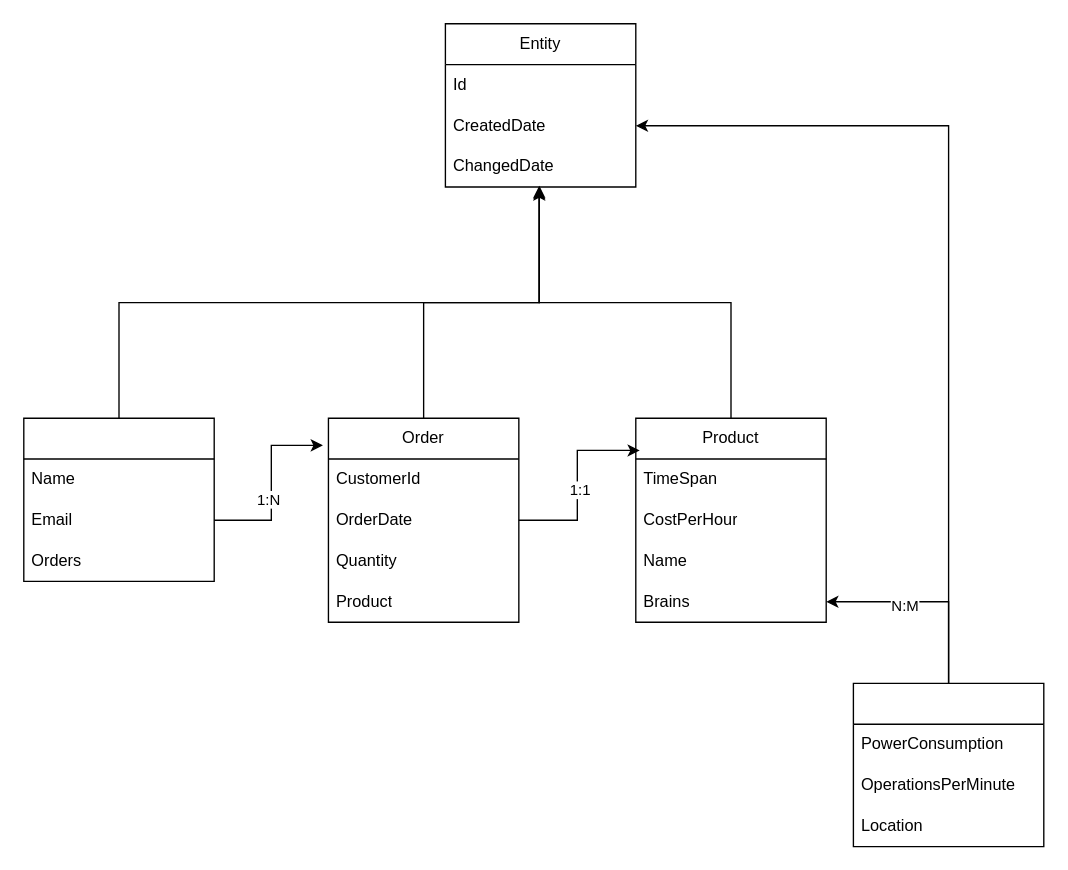
Image size: 1068x870. Some labels were removed from this diagram. Here are the shapes that lost their labels. From the top down, the box of each, then its label:
(22, 417, 214, 581): Customer
(852, 682, 1044, 847): Brain
